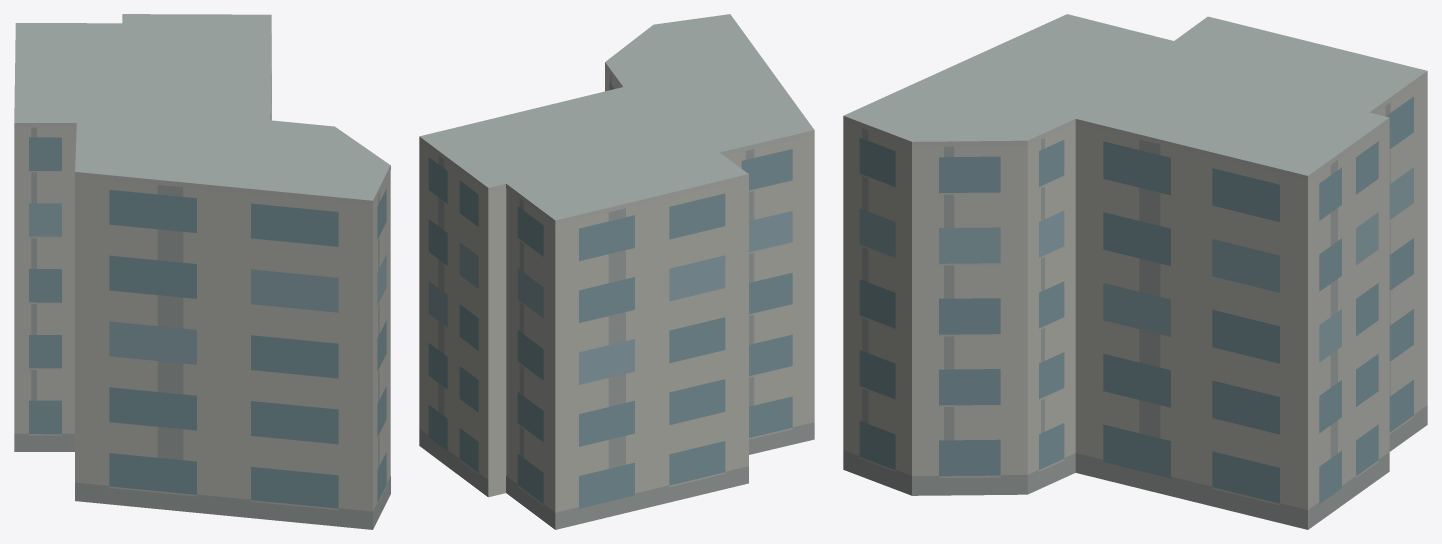
File: survey-upis-32803320.glb
3 renders of one model, left to right at view 1: azimuth 30°, elevation 25°; view 2: azimuth 150°, elevation 25°; view 3: azimuth 270°, elevation 25°, orthographic. The views are drawn at different scales.
Parts seen in each view (by area): view 1: survey-upis-32803320.tmp; view 2: survey-upis-32803320.tmp; view 3: survey-upis-32803320.tmp.
Part boxes in pixels (<box>): survey-upis-32803320.tmp: <box>14,14,390,529</box>; survey-upis-32803320.tmp: <box>419,14,814,529</box>; survey-upis-32803320.tmp: <box>843,14,1427,529</box>.
Bounding box in the file's own units: 16.29 × 16.6 × 24.84.
